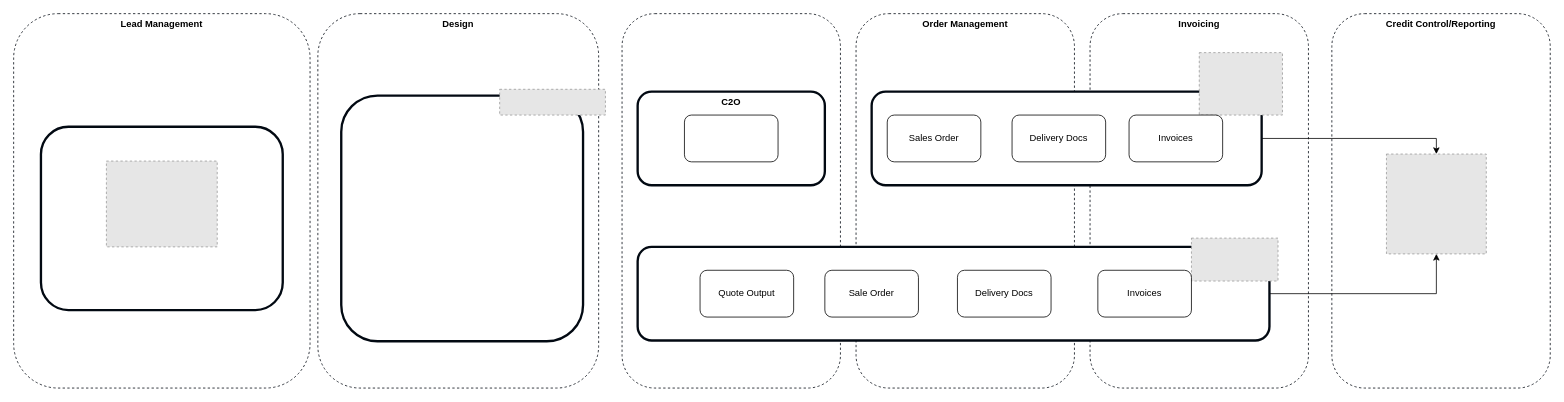
Some shapes in this 1564 by 402 pixel diagram are drawn without their labels. Grey dashed boxes stand in for pictures. Here are the shapes that lost their labels. From the top down, the box of each, then its label:
(684, 114, 778, 162): Quotes
(870, 90, 1262, 186): SAGE
(39, 125, 284, 311): Anthill CRM
(340, 94, 584, 342): 2020 Fusion
(621, 13, 840, 388): Quoting/Estimation
(636, 245, 1270, 341): SAP
